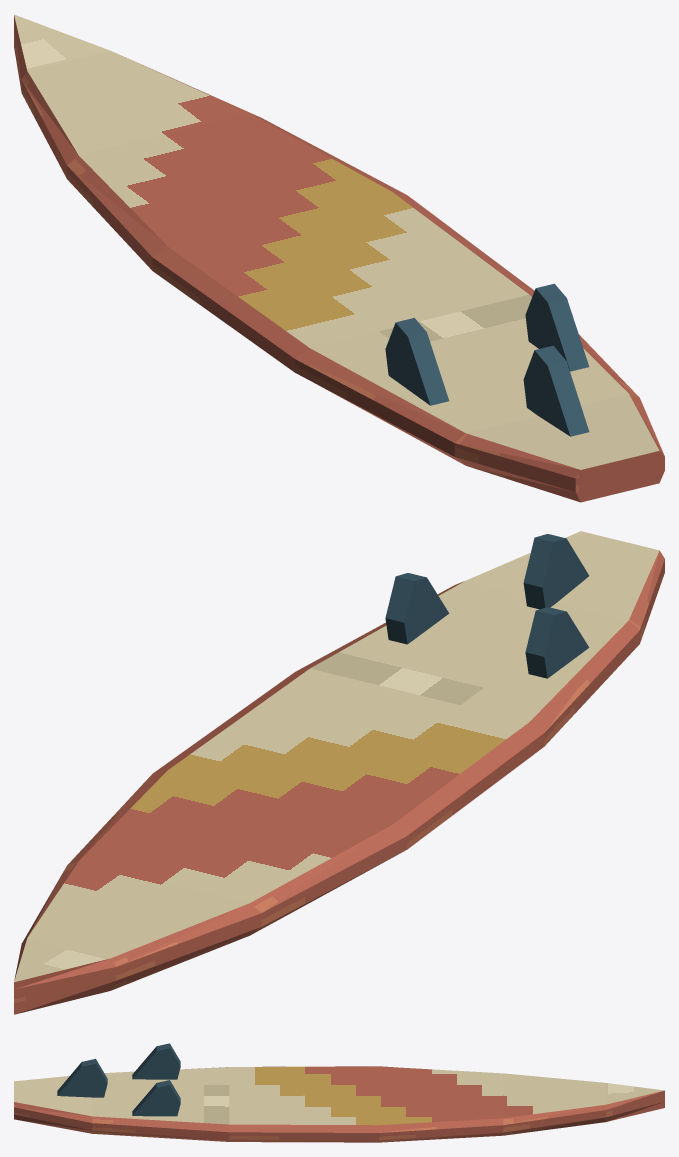
The model's file is surf-shortboard.glb.
3 views of the same model, one above another, from view 1: azimuth 30°, elevation 25°; view 2: azimuth 150°, elevation 25°; view 3: azimuth 270°, elevation 25° (orthographic). The views are drawn at different scales.
Visible parts, largest first — view 1: surf-shortboard; view 2: surf-shortboard; view 3: surf-shortboard.
Boxes of the visible parts, x1,y1,x2,y2 form: surf-shortboard: (14, 14, 664, 502); surf-shortboard: (14, 531, 664, 1014); surf-shortboard: (14, 1043, 664, 1142).
Size of the model in its own units: 0.484 by 0.176 by 2.
Materials: 1 (1 with a texture image).
